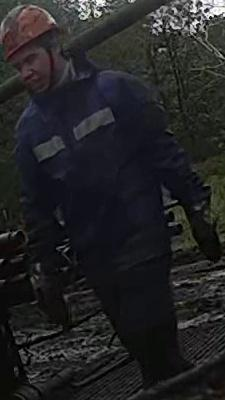gloves: (26, 249, 74, 324), (187, 206, 222, 262)
helmet: (0, 3, 58, 63)
vest: (16, 68, 172, 273)
